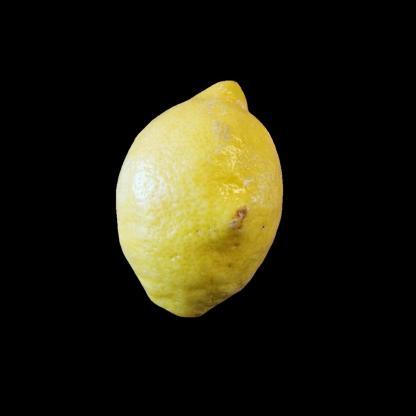lemon: (115, 80, 283, 317)
